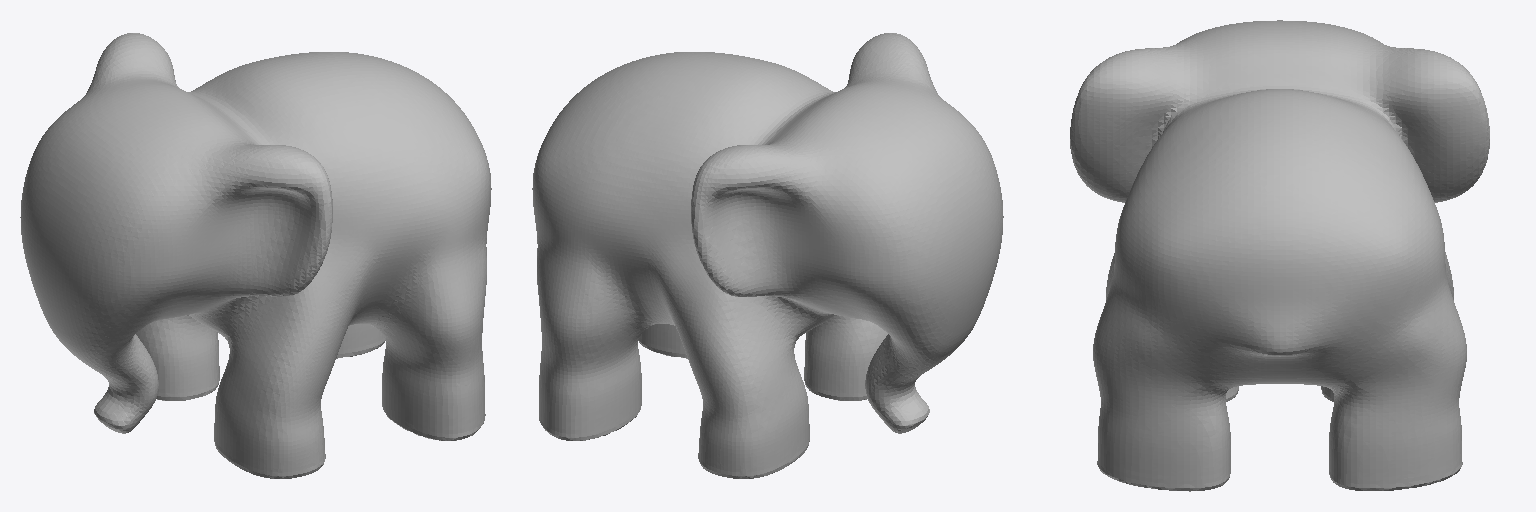
The robot description file, URDF, robot "root":
<robot name="root">
  <link name="link_001">
    <visual>
      <origin xyz="0 0 0" rpy="0 0 0"/>
      <geometry>
        <mesh filename="elephant.obj" scale="1.0000E+00 1.5000E+00 1.0000E+00"/>
      </geometry>
      <material name="">
        <color rgba="7.50E-01 7.50E-01 7.50E-01 1"/>
      </material>
    </visual>
    <collision>
      <origin xyz="0 0 0" rpy="0 0 0"/>
      <geometry>
        <mesh filename="elephant.obj" scale="1.0000E+00 1.5000E+00 1.0000E+00"/>
      </geometry>
    </collision>
    <inertial>
      <mass value="0.16"/> <!-- 质量：0.1kg -->
    </inertial>
  </link>
</robot>

--- Facts derived from the render (not from the file) ---
3 views of the same robot in one strip: view 1: azimuth 30°, elevation 25°; view 2: azimuth 150°, elevation 25°; view 3: azimuth 270°, elevation 25° (orthographic).
Model root with 1 links and 0 joints (none), rooted at link_001, posed every joint at zero.
Visible links, largest first — view 1: link_001; view 2: link_001; view 3: link_001.
Boxes of the visible links, box(x1,y1,x2,y2) form: link_001: box(20, 33, 491, 478); link_001: box(532, 33, 1003, 478); link_001: box(1070, 20, 1489, 491).
Size in the robot's own frame: 0.1357 by 0.1146 by 0.1 metres.
Meshes: 1 distinct files referenced, 1 mesh visuals loaded (1 OBJ).
